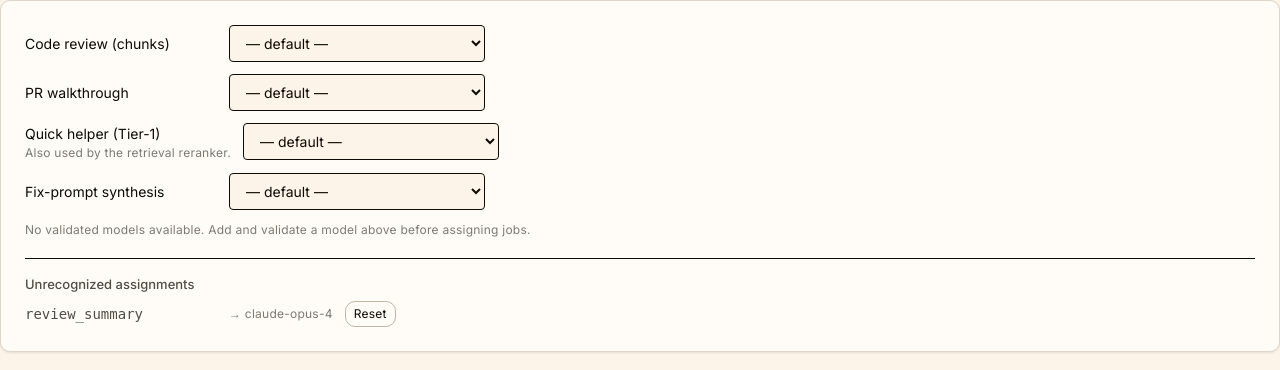
Test: LlmJobRoutingCard › clicking Reset on an orphan issues DELETE and re-fetches routing
Step 1. Click the button with test id "routing-orphan-reset-review_summary" → (370, 314), box [345,301,396,328]
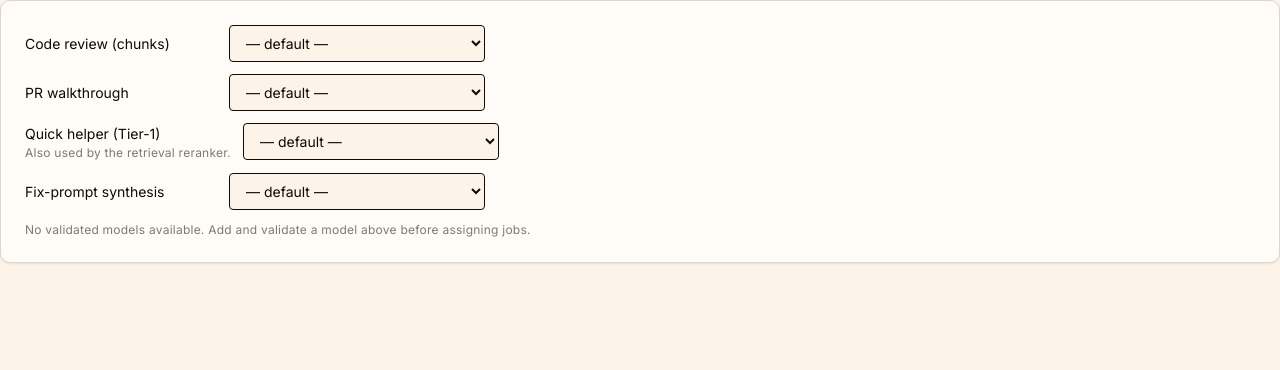
expect the element with test id "routing-orphan-review_summary" is gone: met
